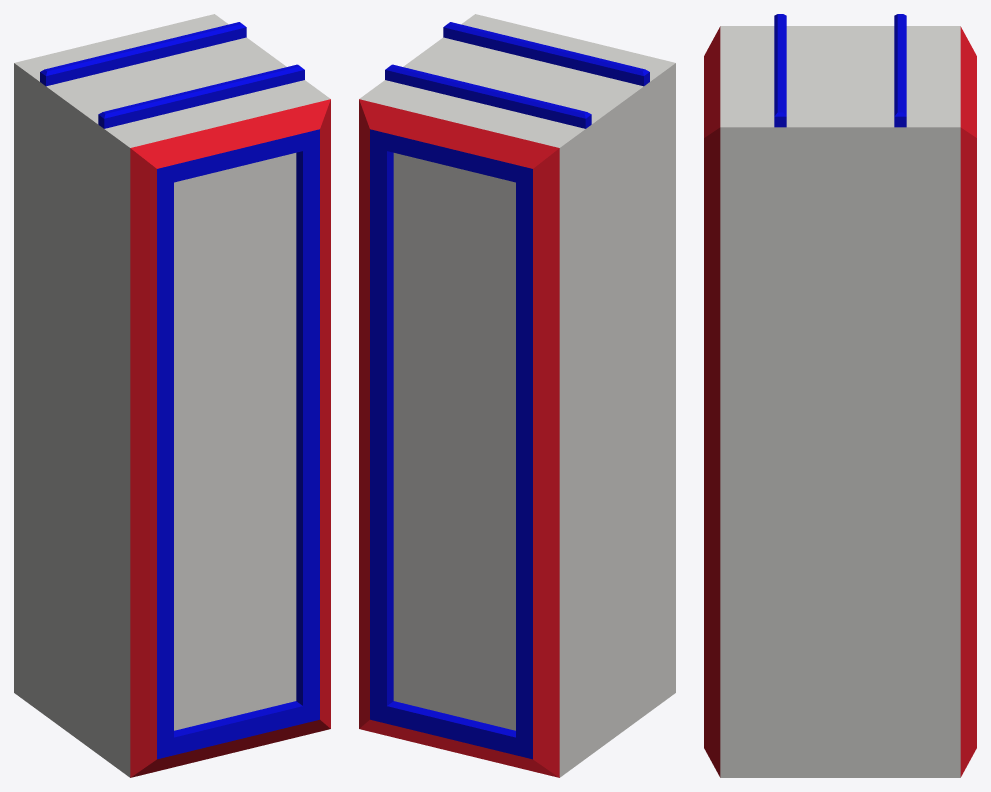
Rendered from TilleableWall.fbx.
3 renders of one model, left to right at view 1: azimuth 30°, elevation 25°; view 2: azimuth 150°, elevation 25°; view 3: azimuth 270°, elevation 25°, orthographic. The views are drawn at different scales.
Parts seen in each view (by area): view 1: Wall; view 2: Wall; view 3: Wall.
Boxes of the visible parts, bbox=[...] form: Wall: bbox=[14, 14, 330, 777]; Wall: bbox=[359, 14, 675, 777]; Wall: bbox=[704, 14, 976, 777].
Size of the model in its own units: 100 by 306 by 114.
